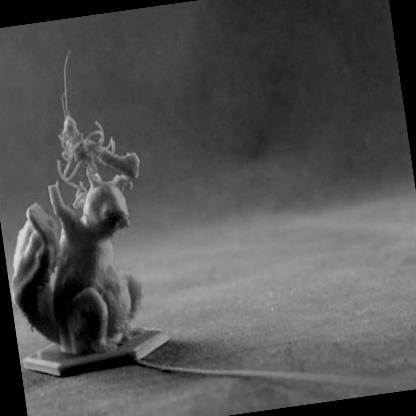fail: (28, 48, 109, 190)
